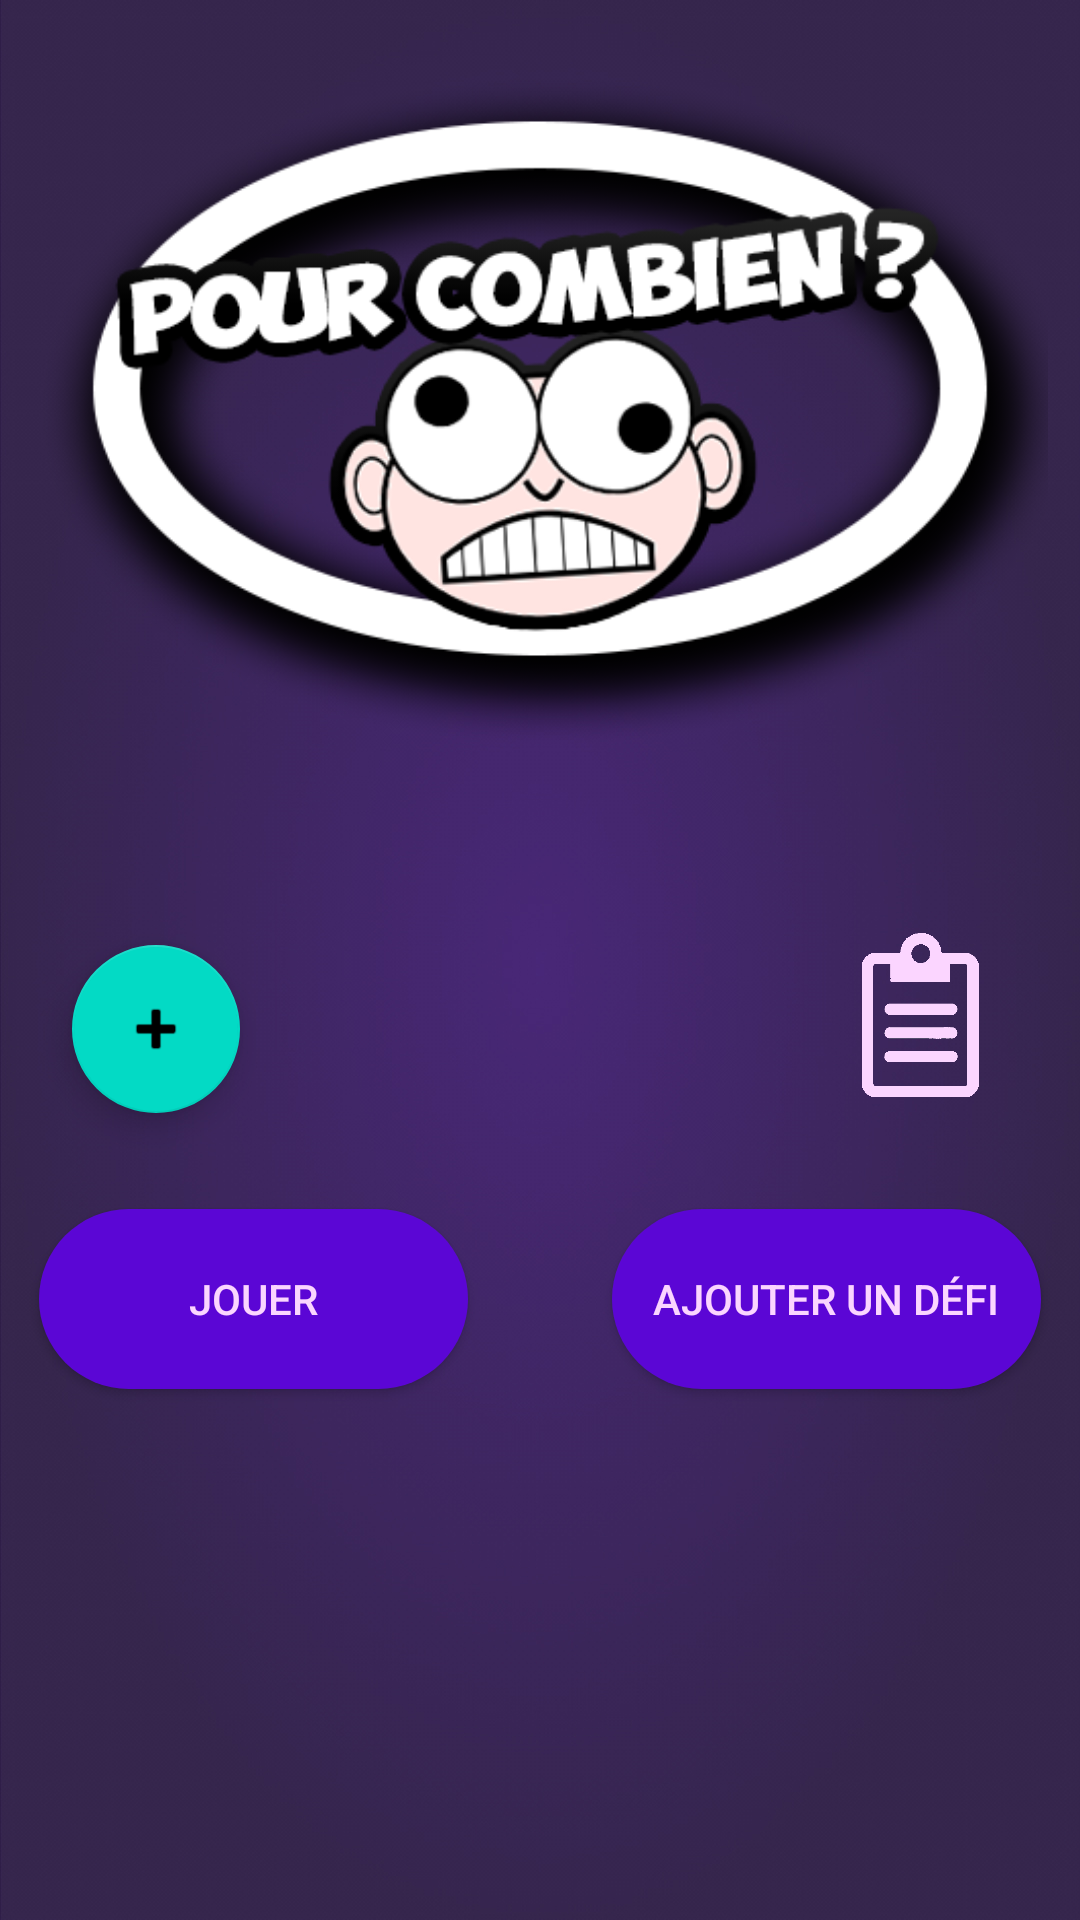

Screen size 1080w x 1920h. Icon name, then its box in pixels as (x1, y1, x2, y2):
add: (72, 945, 240, 1113)
Liste représentant les règles du jeu: (862, 933, 979, 1097)
